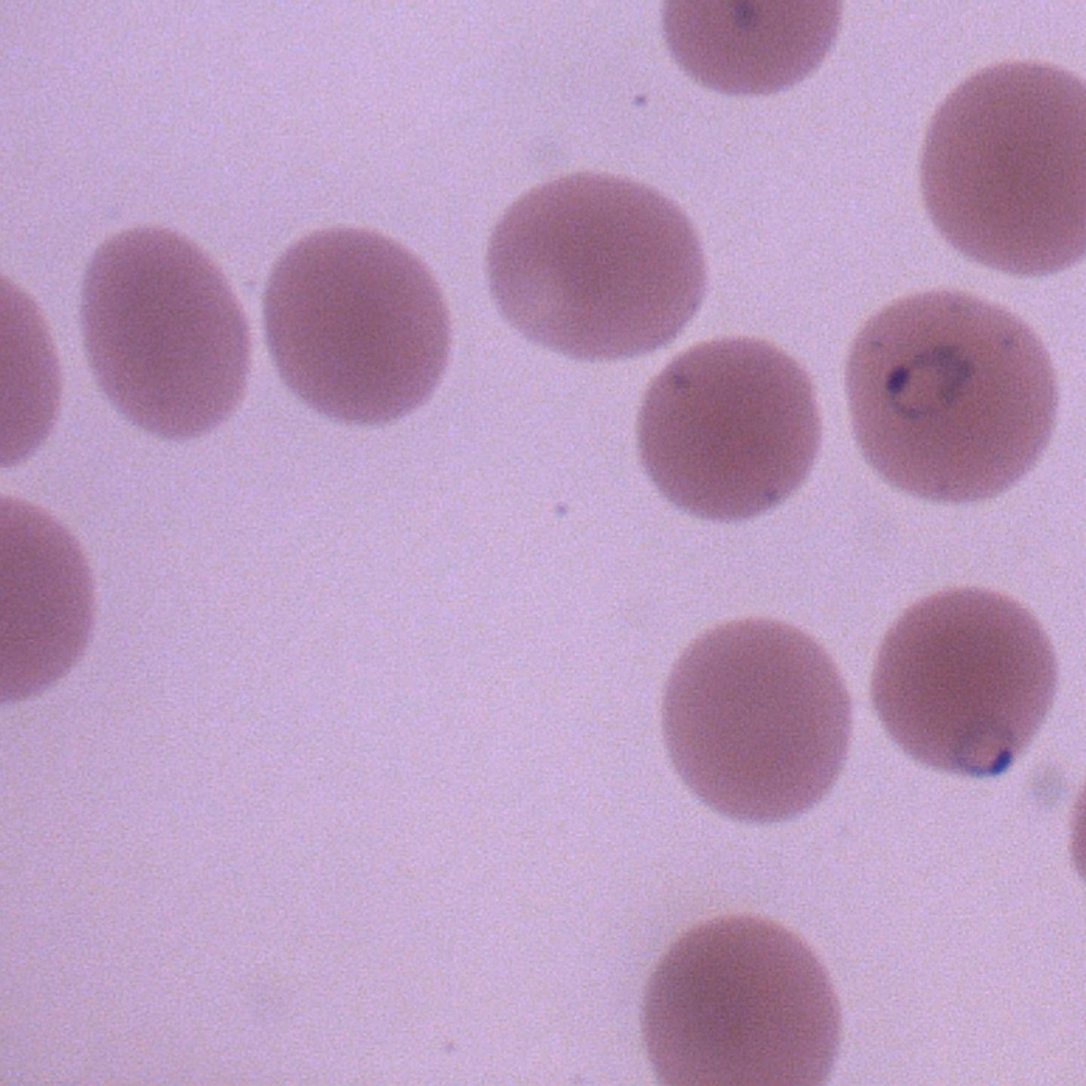Infected: (850, 285, 1063, 506), (865, 592, 1060, 783)
Uninfected: (493, 172, 713, 362), (267, 225, 458, 429), (667, 615, 844, 822), (81, 227, 248, 442), (647, 912, 842, 1086), (639, 340, 823, 519)
